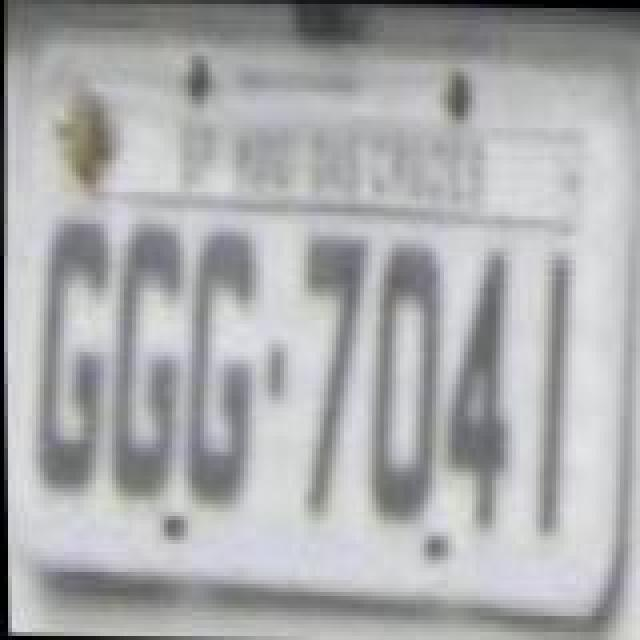1: (528, 250, 572, 542)
4: (436, 240, 512, 528)
7: (302, 226, 378, 522)
G: (106, 212, 190, 500), (30, 210, 114, 494), (180, 222, 260, 514)
O: (364, 234, 444, 526)
